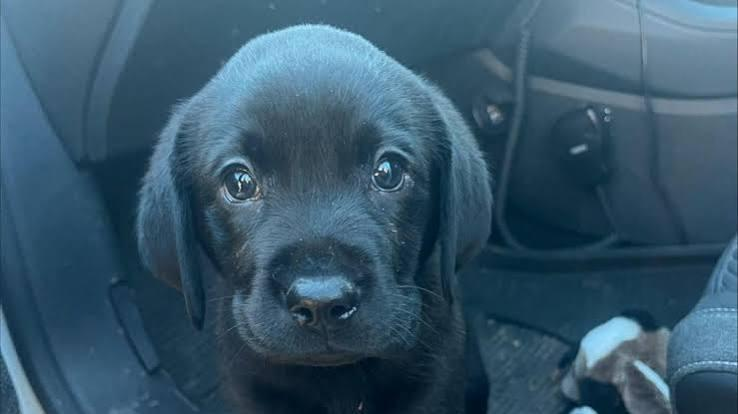puppy-dog: (134, 21, 496, 414)
